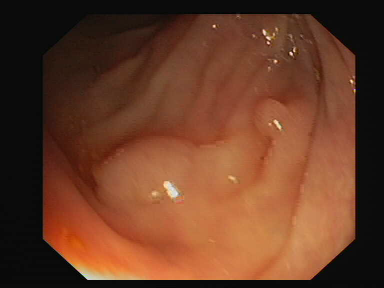polyp: (86, 118, 213, 201), (241, 92, 316, 150)
